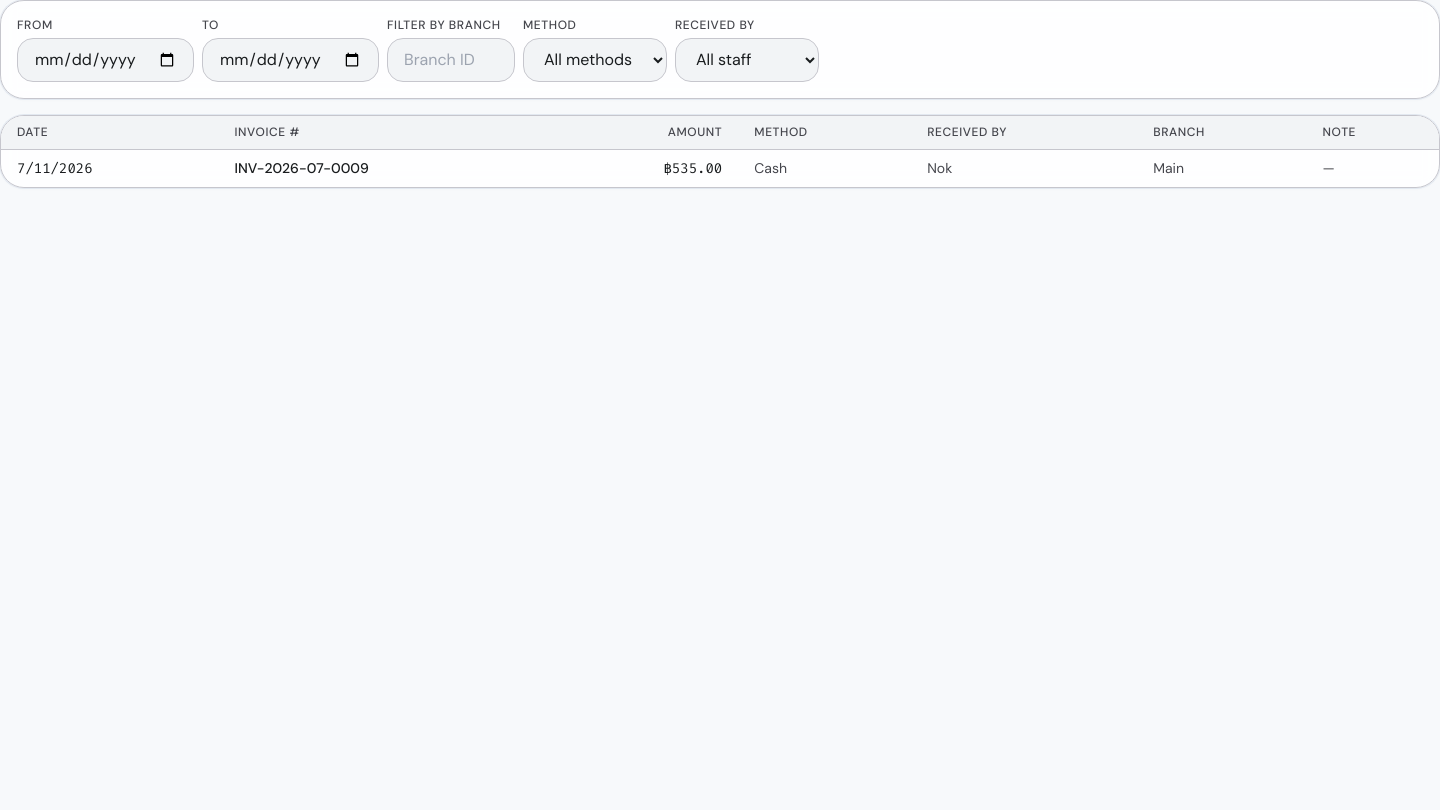
PaymentHistoryTab — row click opens ReceiptModal (T-3b.3) › clicking a row fetches GET /api/invoices/:id and renders the receipt modal
Click the button "INV-2026-07-0009" at (720, 168), box [1,149,1439,187]
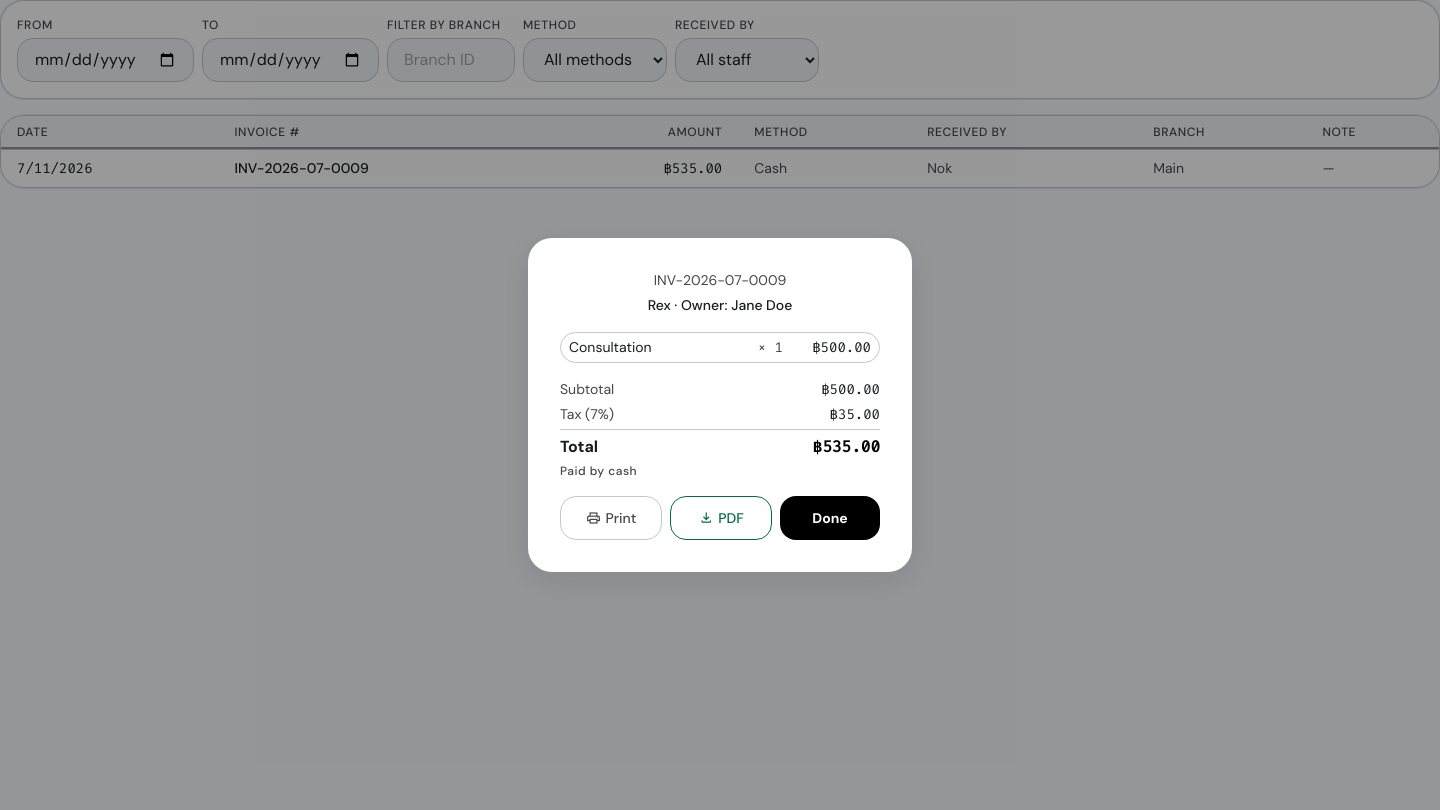
Expected: the element with test id "receipt-modal" is shown, [528,238,912,572]
Expected: the text "Consultation" is shown, [569,338,652,356]
